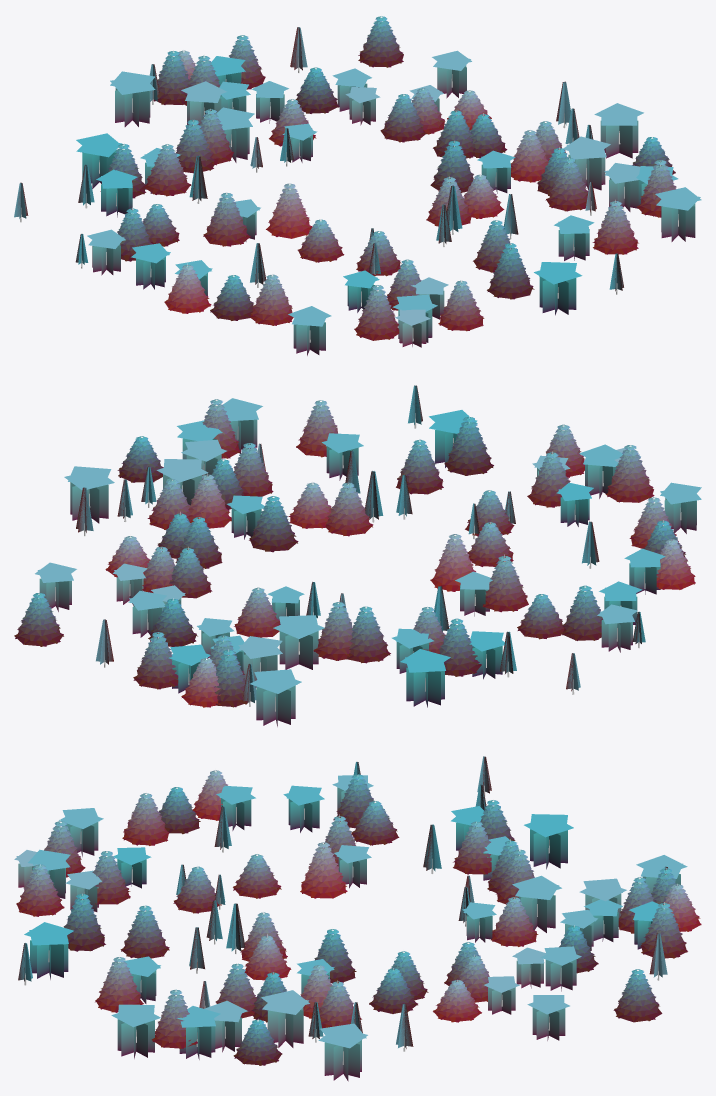
File: SM_Env_Trees.fbx
3 views of the same model, one above another, from view 1: azimuth 30°, elevation 25°; view 2: azimuth 150°, elevation 25°; view 3: azimuth 270°, elevation 25° (orthographic). The views are drawn at different scales.
Visible parts, largest first — view 1: SM_Env_Trees; view 2: SM_Env_Trees; view 3: SM_Env_Trees.
Part boxes in pixels (x1,y1,x2,y2): SM_Env_Trees: [14, 15, 701, 355]; SM_Env_Trees: [14, 385, 701, 726]; SM_Env_Trees: [14, 756, 701, 1081].
Size of the model in its own units: 147 by 16.57 by 153.
